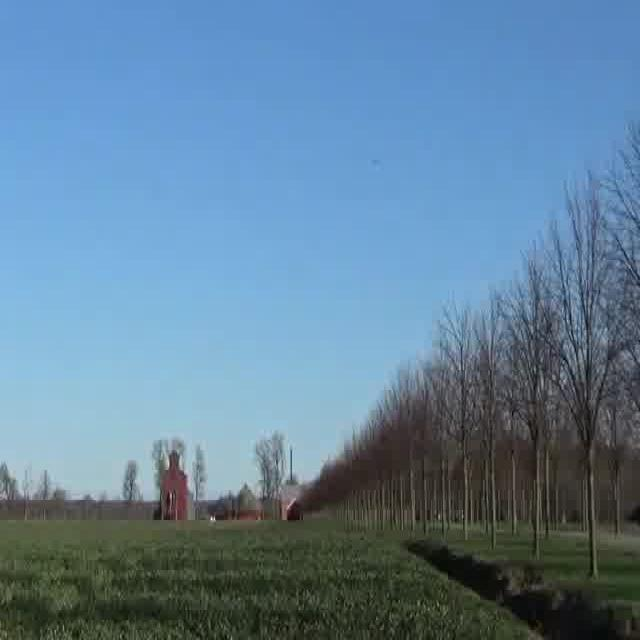bird: (368, 155, 386, 172)
